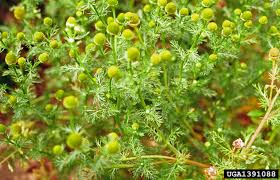pineple: (104, 20, 207, 110)
